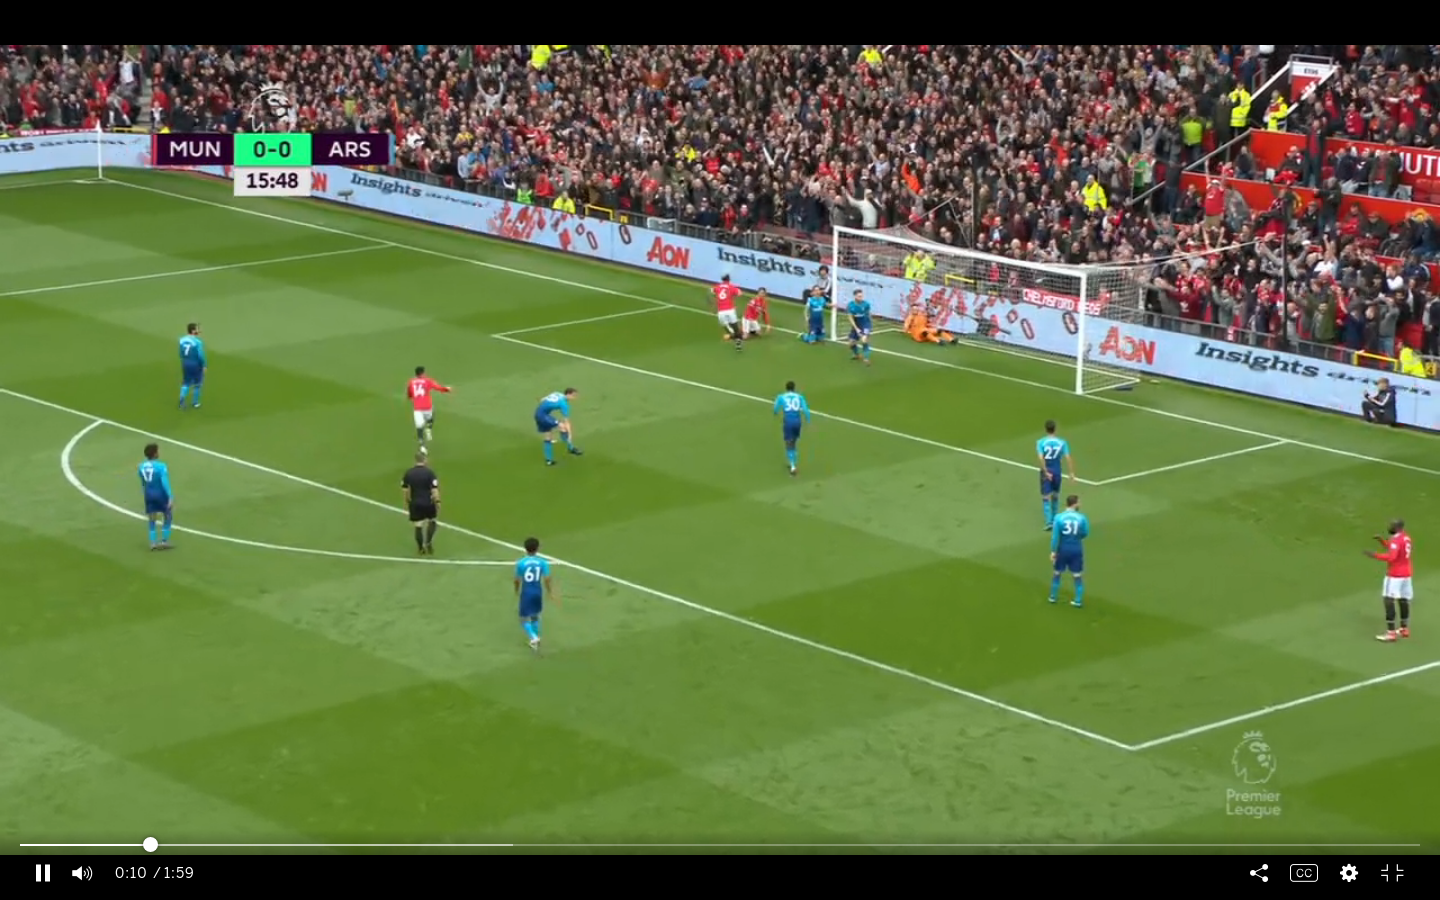referee: (395, 449, 447, 557)
soccer player: (1362, 512, 1419, 649), (505, 532, 556, 654), (132, 440, 181, 554), (1045, 492, 1092, 614), (1032, 414, 1072, 531), (401, 362, 456, 446), (530, 382, 582, 468), (172, 319, 213, 414), (775, 382, 815, 472), (898, 303, 958, 351), (707, 277, 745, 339), (739, 285, 778, 346), (844, 291, 875, 351), (801, 286, 828, 346)
